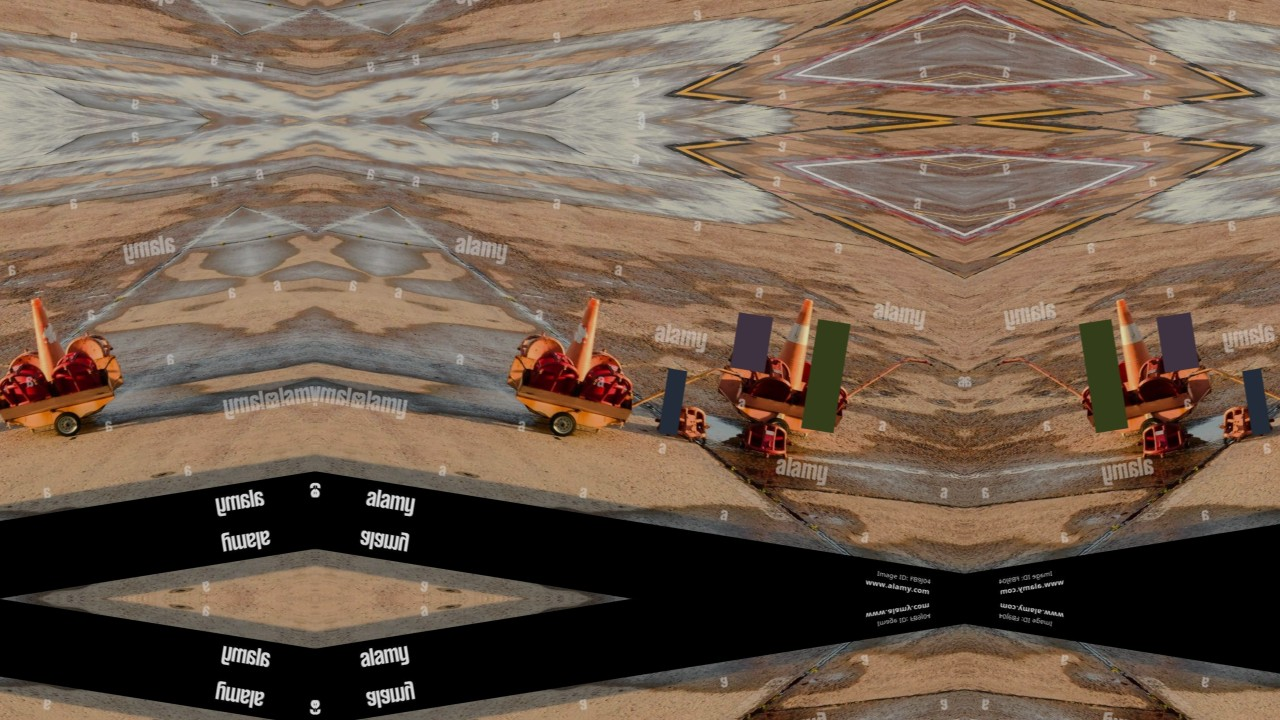chock: (578, 358, 637, 409), (651, 400, 716, 446), (1214, 400, 1279, 446), (47, 347, 102, 397), (528, 347, 583, 397), (743, 354, 797, 404), (1133, 354, 1187, 404), (0, 358, 52, 409), (799, 373, 850, 417), (1080, 373, 1131, 417), (736, 418, 791, 458), (1139, 418, 1194, 458), (63, 328, 114, 365), (516, 328, 567, 365), (726, 340, 775, 376), (1155, 340, 1204, 376), (3, 348, 43, 382), (587, 348, 627, 382), (800, 358, 823, 384), (1107, 358, 1130, 384)
wheel: (52, 410, 85, 440), (545, 410, 578, 440), (761, 416, 792, 441), (1138, 416, 1169, 441)
